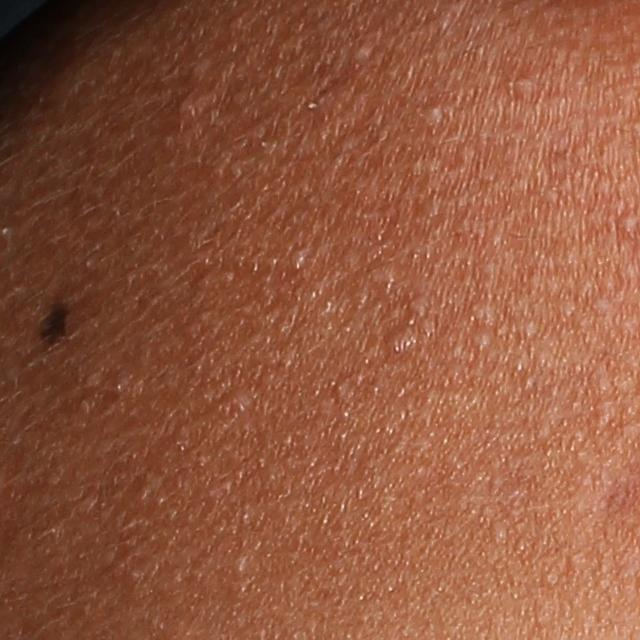comedo: (220, 386, 254, 413), (174, 91, 204, 121), (404, 292, 434, 321), (385, 330, 411, 358), (346, 40, 372, 63), (469, 302, 494, 325), (513, 74, 534, 98), (230, 557, 249, 579), (290, 246, 307, 270)
nevus: (36, 292, 78, 354)
